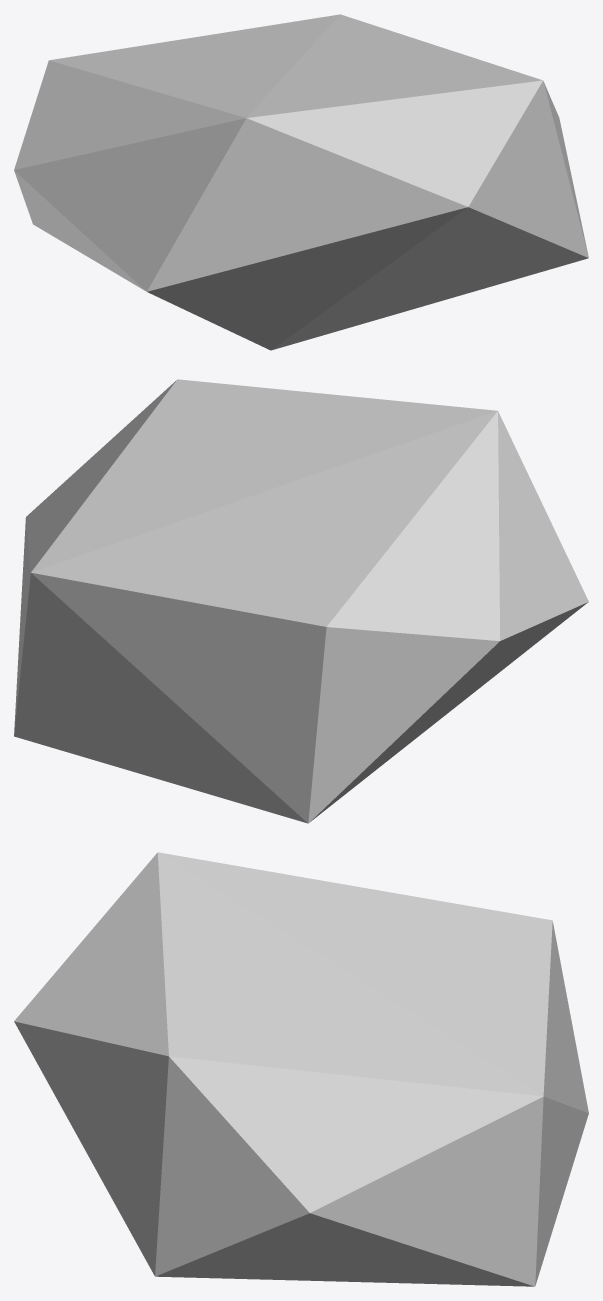
The model's file is Stone 2.fbx.
3 renders of one model, top to bottom at view 1: azimuth 30°, elevation 25°; view 2: azimuth 150°, elevation 25°; view 3: azimuth 270°, elevation 25°, orthographic. The views are drawn at different scales.
Visible parts, largest first — view 1: Stone 2; view 2: Stone 2; view 3: Stone 2.
Boxes of the visible parts, bbox=[...] form: Stone 2: bbox=[14, 14, 588, 350]; Stone 2: bbox=[14, 379, 588, 823]; Stone 2: bbox=[14, 852, 588, 1286].
Size of the model in its own units: 4.37 by 2.14 by 3.99.
